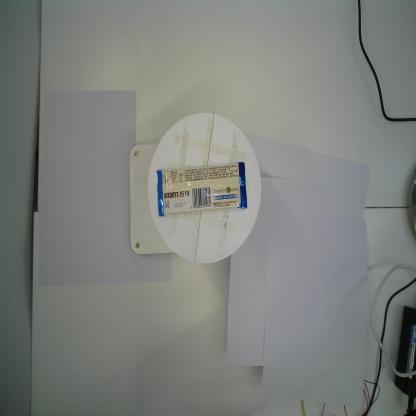Chocolate: (156, 160, 249, 218)
